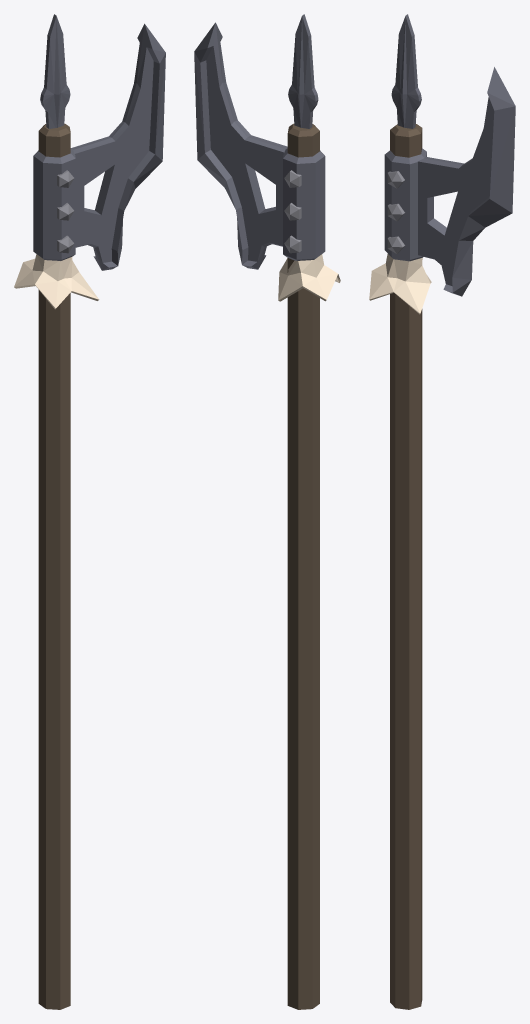
The model's file is _HALPERT.fbx.
3 renders of one model, left to right at view 1: azimuth 30°, elevation 25°; view 2: azimuth 150°, elevation 25°; view 3: azimuth 330°, elevation 25°, orthographic.
Parts seen in each view (by area): view 1: HALPERT; view 2: HALPERT; view 3: HALPERT.
Part boxes in pixels (bbox=[...]): HALPERT: bbox=[14, 14, 165, 1009]; HALPERT: bbox=[194, 14, 340, 1009]; HALPERT: bbox=[369, 14, 515, 1009].
Bounding box in the file's own units: 42.13 × 280 × 18.14.
